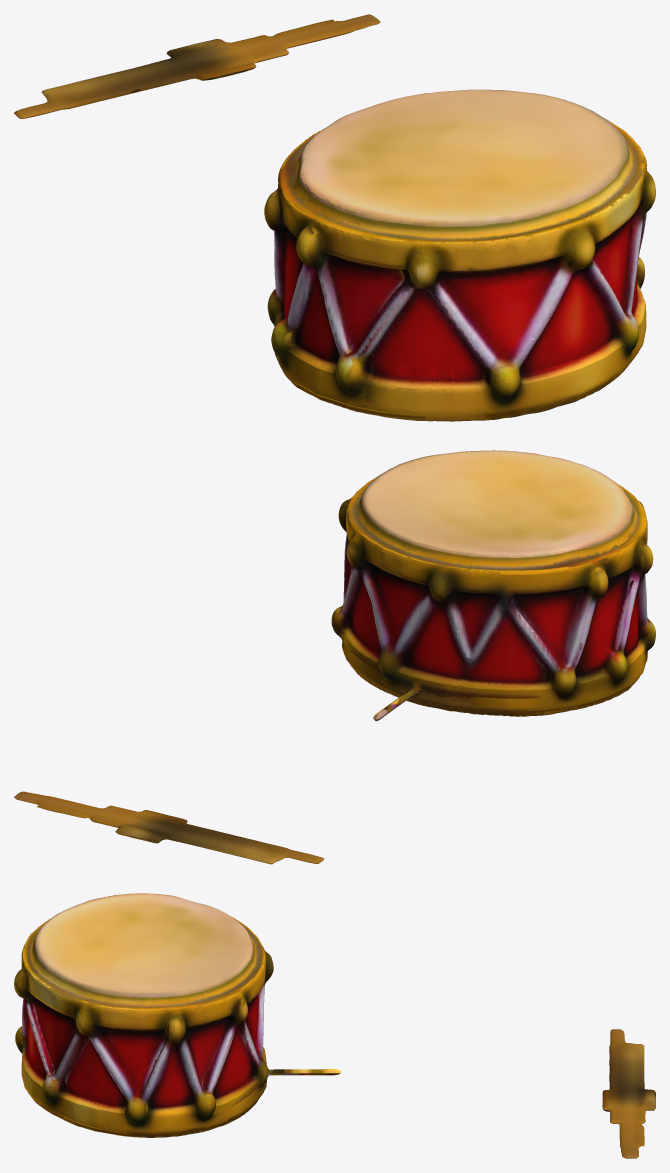
File: Toy_drum.glb
3 views of the same model, one above another, from view 1: azimuth 30°, elevation 25°; view 2: azimuth 150°, elevation 25°; view 3: azimuth 270°, elevation 25° (orthographic). The views are drawn at different scales.
Visible parts, largest first — view 1: tmp2d5avkoi.ply; view 2: tmp2d5avkoi.ply; view 3: tmp2d5avkoi.ply.
Boxes of the visible parts, x1,y1,x2,y2 form: tmp2d5avkoi.ply: (14, 14, 655, 421); tmp2d5avkoi.ply: (14, 450, 655, 864); tmp2d5avkoi.ply: (14, 893, 655, 1158).
Size of the model in its own units: 1.11 by 0.4744 by 1.99.
Materials: 1 (1 with a texture image).
